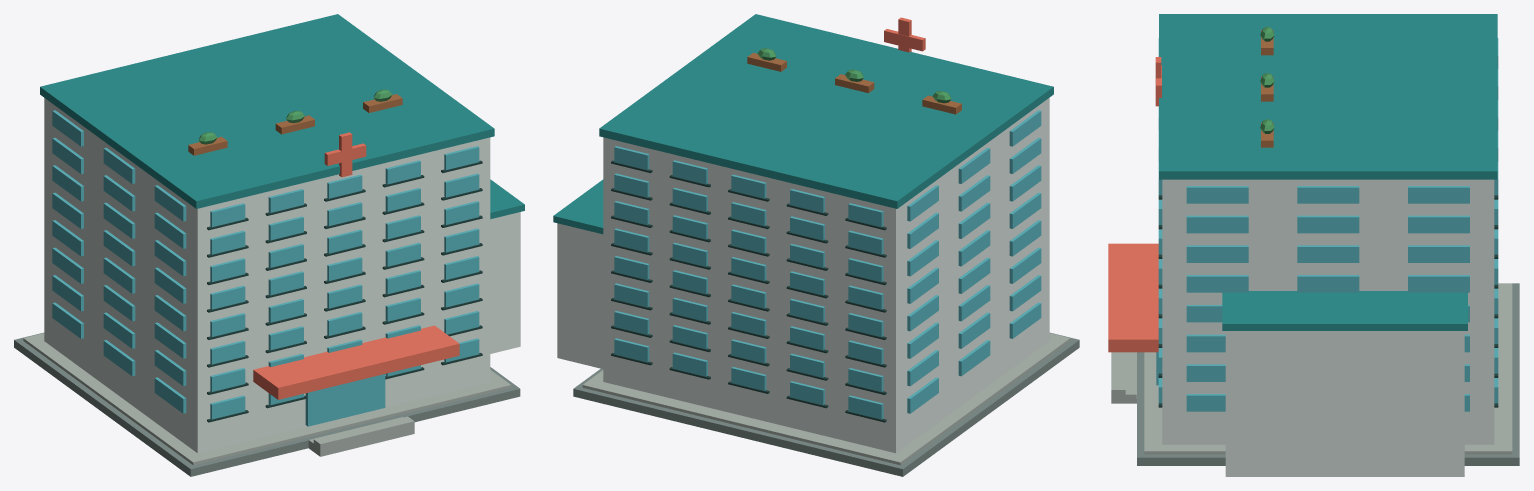
The model's file is hospital_lv3.glb.
3 renders of one model, left to right at view 1: azimuth 30°, elevation 25°; view 2: azimuth 150°, elevation 25°; view 3: azimuth 270°, elevation 25°, orthographic. The views are drawn at different scales.
Visible parts, largest first — view 1: white, teal, glass, concrete, coral, pavement, dark, wood, green; view 2: white, teal, glass, pavement, concrete, dark, wood, coral, green; view 3: white, teal, glass, concrete, coral, pavement, wood, green.
Boxes of the visible parts, <box> form: white: <box>44,98,520,453</box>; teal: <box>40,14,524,219</box>; glass: <box>52,110,479,426</box>; concrete: <box>23,333,511,465</box>; coral: <box>253,132,459,399</box>; pavement: <box>14,332,520,476</box>; dark: <box>207,160,482,422</box>; wood: <box>188,94,402,155</box>; green: <box>198,89,392,144</box>; white: <box>557,98,1049,453</box>; teal: <box>553,14,1053,234</box>; glass: <box>614,110,1041,419</box>; pavement: <box>573,332,1079,476</box>; concrete: <box>582,333,1070,465</box>; dark: <box>611,160,886,422</box>; wood: <box>747,53,961,114</box>; coral: <box>884,17,925,52</box>; green: <box>757,48,951,103</box>; white: <box>1162,179,1494,476</box>; teal: <box>1159,14,1497,330</box>; glass: <box>1156,38,1498,411</box>; concrete: <box>1111,283,1512,454</box>; coral: <box>1108,57,1161,352</box>; pavement: <box>1137,283,1519,465</box>; wood: <box>1261,30,1273,147</box>; green: <box>1260,26,1274,133</box>.
Bounding box in the file's own units: 11.1 × 8.38 × 9.79.
